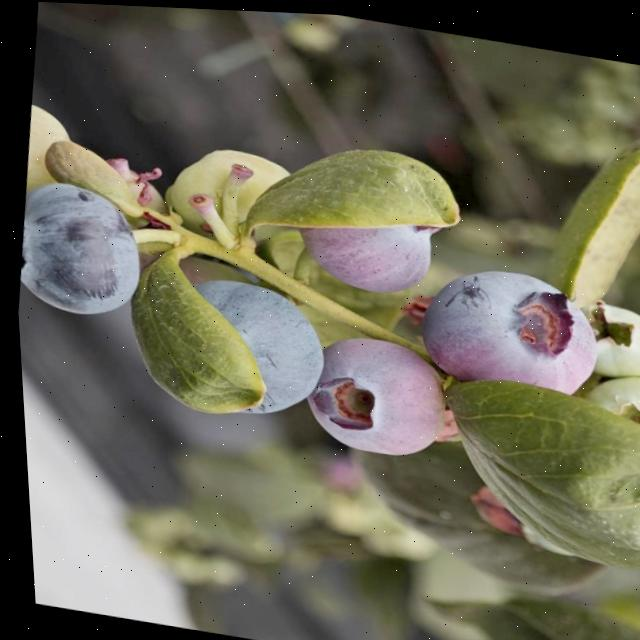RipeBlueBerry: (166, 271, 329, 424), (9, 179, 149, 323)
Semi-RipeBlueBerry: (414, 255, 602, 393), (299, 328, 446, 460), (283, 196, 436, 299)
